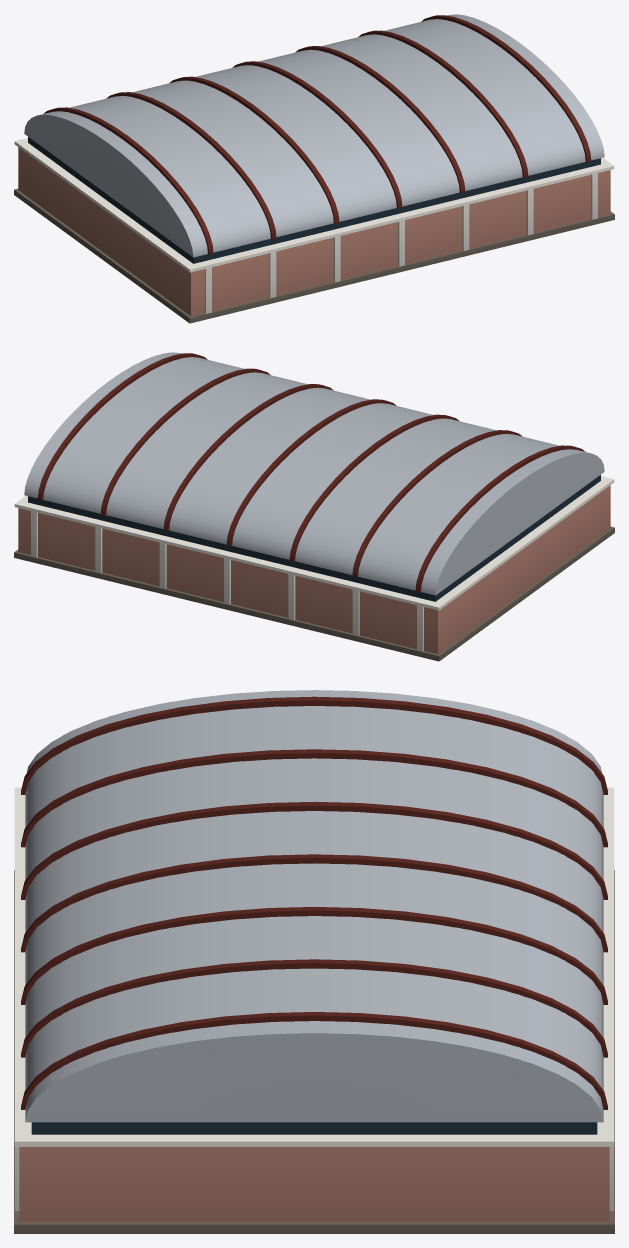
File: indoor_stadium.glb
The picture shows the model from 3 angles, top to bottom: view 1: azimuth 30°, elevation 25°; view 2: azimuth 150°, elevation 25°; view 3: azimuth 270°, elevation 25°; orthographic projection. The views are drawn at different scales.
Visible parts, largest first — view 1: LOD0_High_SteelVaultRoof, LOD0_High_IndoorBrick, LOD1_Medium_SteelVaultRoof, LOD0_High_MaroonArchSteel, LOD0_High_StuccoWhite, LOD0_High_StackedStone, LOD0_High_CurtainGlass, LOD1_Medium_MaroonArchSteel; view 2: LOD0_High_SteelVaultRoof, LOD0_High_IndoorBrick, LOD1_Medium_SteelVaultRoof, LOD0_High_MaroonArchSteel, LOD0_High_StuccoWhite, LOD0_High_StackedStone, LOD0_High_CurtainGlass, LOD1_Medium_MaroonArchSteel; view 3: LOD0_High_SteelVaultRoof, LOD0_High_IndoorBrick, LOD1_Medium_SteelVaultRoof, LOD0_High_MaroonArchSteel, LOD0_High_StuccoWhite, LOD0_High_StackedStone, LOD0_High_CurtainGlass, LOD1_Medium_MaroonArchSteel.
Boxes of the visible parts, box(x1,y1,x2,y2) form: LOD0_High_SteelVaultRoof: box(24, 14, 604, 257); LOD0_High_IndoorBrick: box(18, 147, 610, 316); LOD1_Medium_SteelVaultRoof: box(24, 14, 601, 256); LOD0_High_MaroonArchSteel: box(43, 15, 591, 254); LOD0_High_StuccoWhite: box(14, 138, 614, 313); LOD0_High_StackedStone: box(14, 188, 614, 323); LOD0_High_CurtainGlass: box(28, 137, 600, 263); LOD1_Medium_MaroonArchSteel: box(45, 16, 586, 254); LOD0_High_SteelVaultRoof: box(24, 352, 604, 595); LOD0_High_IndoorBrick: box(18, 485, 610, 654); LOD1_Medium_SteelVaultRoof: box(27, 352, 604, 594); LOD0_High_MaroonArchSteel: box(37, 353, 585, 592); LOD0_High_StuccoWhite: box(14, 476, 614, 651); LOD0_High_StackedStone: box(14, 526, 614, 661); LOD0_High_CurtainGlass: box(28, 475, 600, 601); LOD1_Medium_MaroonArchSteel: box(42, 354, 574, 591); LOD0_High_SteelVaultRoof: box(25, 690, 603, 1122); LOD0_High_IndoorBrick: box(19, 1147, 609, 1222); LOD1_Medium_SteelVaultRoof: box(26, 693, 602, 1122); LOD0_High_MaroonArchSteel: box(21, 696, 607, 1109); LOD0_High_StuccoWhite: box(14, 787, 614, 1210); LOD0_High_StackedStone: box(14, 870, 614, 1233); LOD0_High_CurtainGlass: box(31, 1122, 597, 1134); LOD1_Medium_MaroonArchSteel: box(21, 700, 607, 1109).
Bounding box in the file's own units: 62.17 × 16.38 × 44.52.
